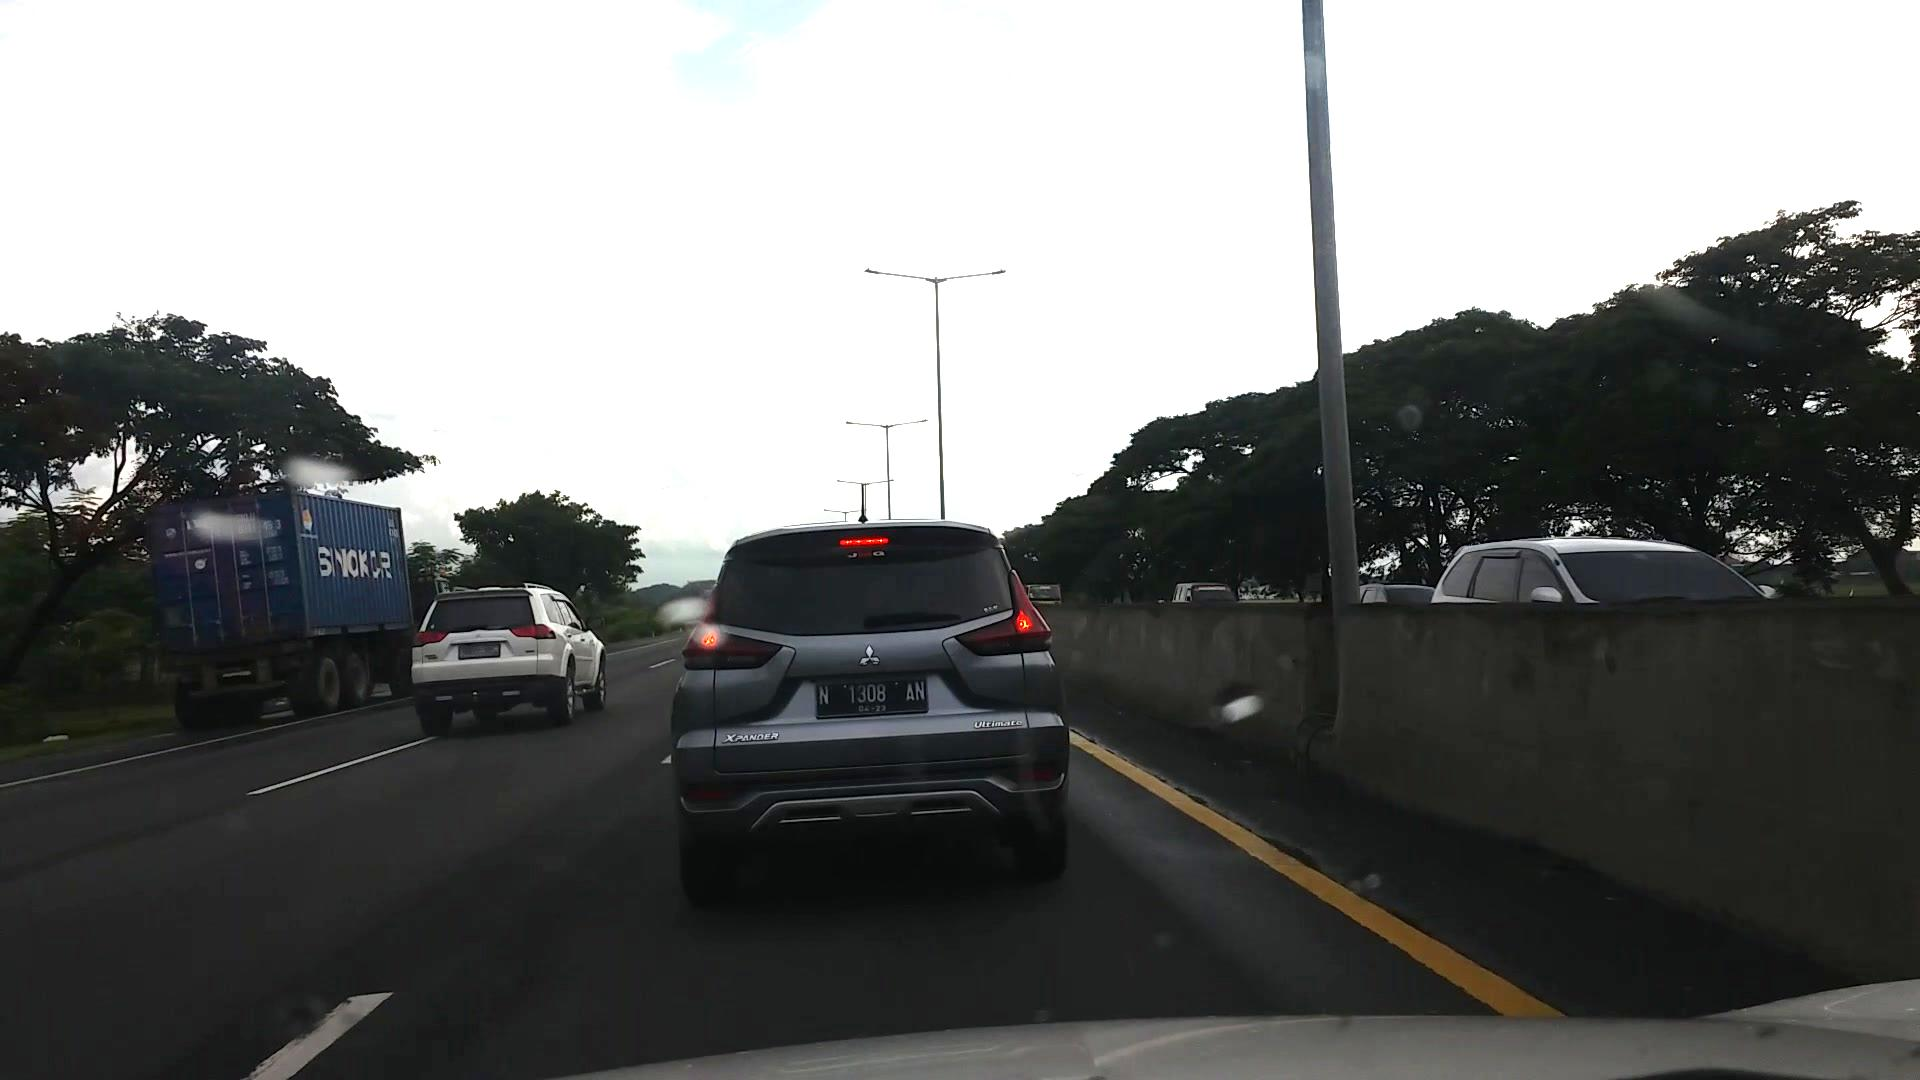plate_positive: (816, 679, 927, 717)
